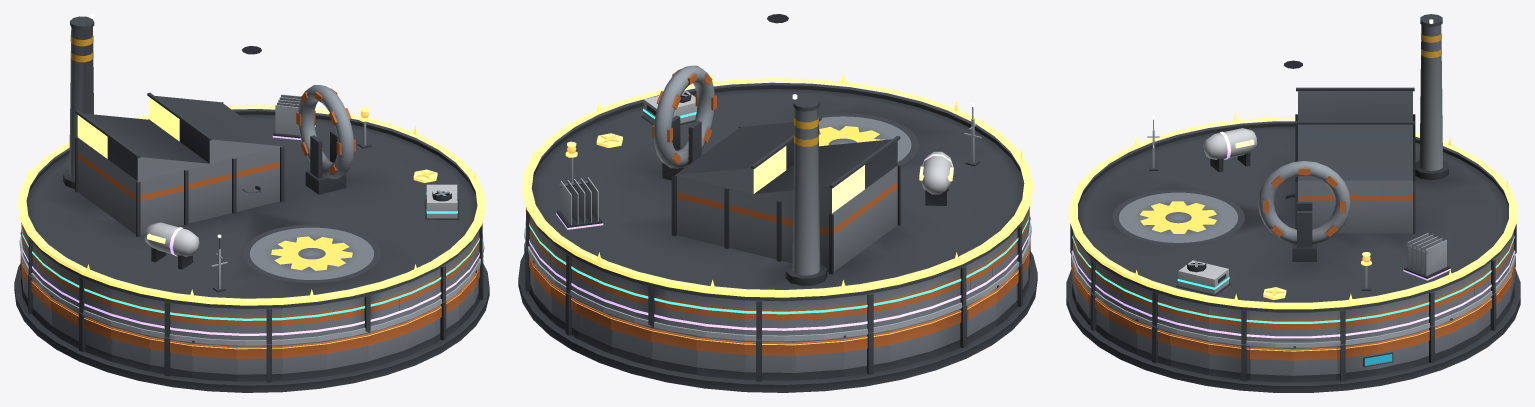
The model's file is magnet_works_m.glb.
3 renders of one model, left to right at view 1: azimuth 30°, elevation 25°; view 2: azimuth 150°, elevation 25°; view 3: azimuth 270°, elevation 25°, orthographic. The views are drawn at different scales.
Parts seen in each view (by area): view 1: Roof, Base, L4, Wall_21, Wall_20, Wall_22, Wall_19, Wall_23, Wall_18, Wall_24, Upper_21, Upper_20 (+23 smaller); view 2: Roof, Base, L4, Wall_10, Wall_11, Wall_09, Wall_12, Wall_08, Wall_13, Wall_07, Upper_10, Upper_11 (+24 smaller); view 3: Roof, Base, L4, Wall_00, Wall_31, Wall_30, L3, Wall_29, Wall_01, Wall_02, Upper_00, Upper_31 (+22 smaller).
Boxes of the visible parts, x1,y1,x2,y2 form: Roof: (26,14,480,308); Base: (14,263,489,392); L4: (144,94,315,269); Wall_21: (236,344,282,382); Wall_20: (192,340,236,381); Wall_22: (282,340,326,380); Wall_19: (149,335,192,377); Wall_23: (326,332,367,376); Wall_18: (110,326,149,371); Wall_24: (367,321,404,368); Upper_21: (237,308,281,344); Upper_20: (192,305,236,339); Roof: (528,14,1024,301); Base: (518,251,1037,392); L4: (556,151,953,229); Wall_10: (745,339,794,381); Wall_11: (794,337,843,380); Wall_09: (696,335,744,379); Wall_12: (843,330,889,376); Wall_08: (651,325,696,374); Wall_13: (889,320,932,369); Wall_07: (611,315,651,365); Upper_10: (745,300,794,339); Upper_11: (794,297,842,335); Roof: (1076,14,1510,312); Base: (1066,269,1520,392); L4: (1203,128,1450,280); Wall_00: (1293,346,1336,382); Wall_31: (1250,346,1293,382); Wall_30: (1208,341,1250,381); L3: (1176,194,1295,295); Wall_29: (1170,332,1208,375); Wall_01: (1336,341,1378,381); Wall_02: (1378,332,1416,375); Upper_00: (1293,310,1336,342); Upper_31: (1250,310,1293,342).
Bounding box in the file's own units: 14.75 × 8.49 × 14.75.
